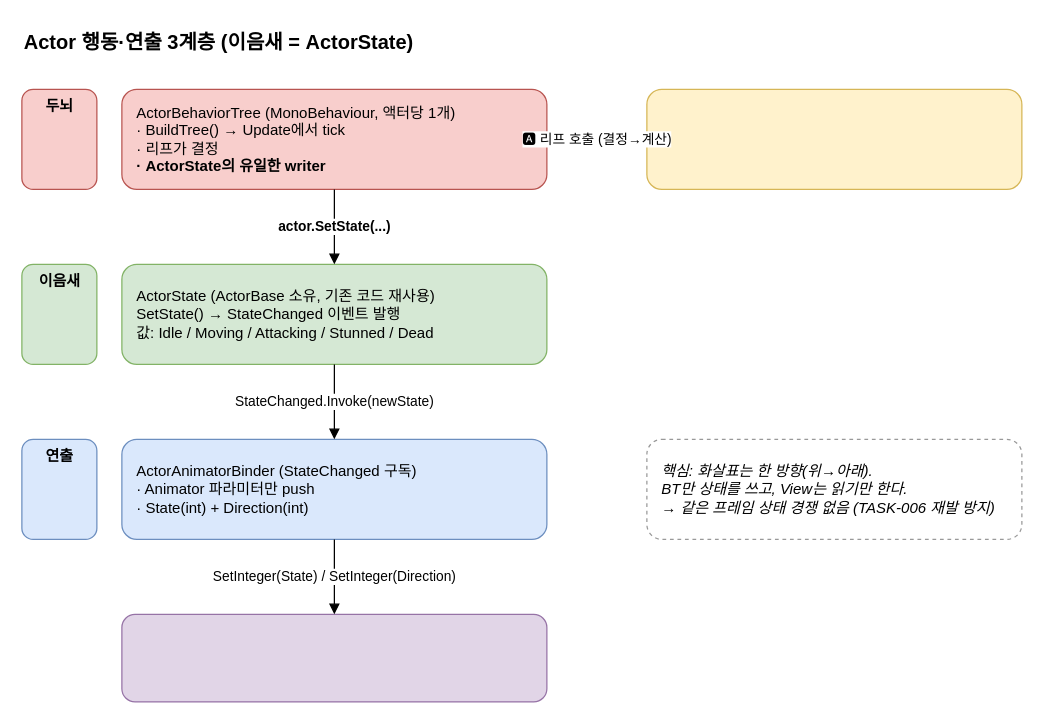
Image size: 1044x724. Some labels were removed from this diagram. The shapes that lost their labels are listed below. From the top down, each one's centre as x and y in pixels, then its label:
the point at 834,138: POCO 로직 (기존·검증됨) PathFollowerLogic ArenaOrbitLogic CombatLogic
the point at 334,657: AnimatorController 에셋 · 전환 규칙 소유 · 프리팹별 교체 = 애니 오버라이드 (코드 0)
